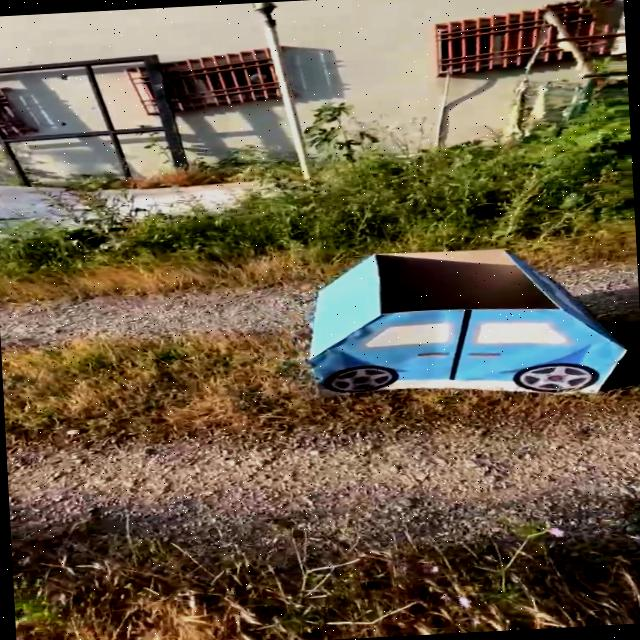blue_car: (279, 202, 640, 422)
